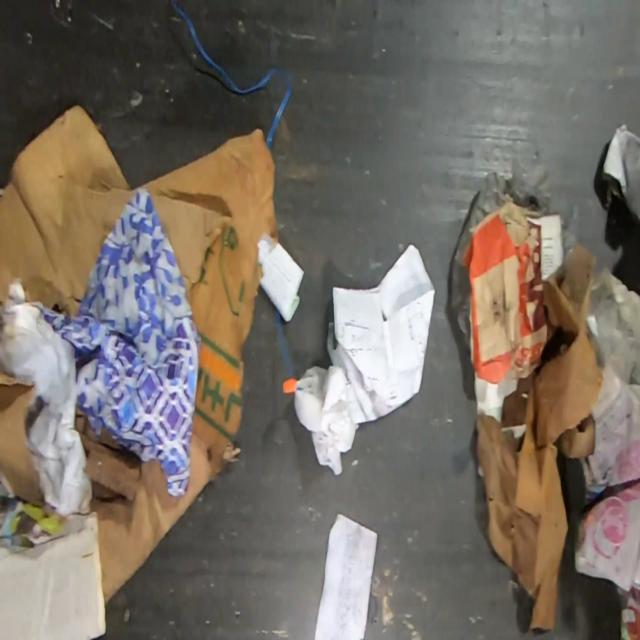cardboard: (0, 98, 276, 612), (473, 245, 605, 631), (459, 201, 548, 385), (0, 369, 47, 509)
soft_plastic: (449, 157, 580, 355), (586, 268, 640, 473)
